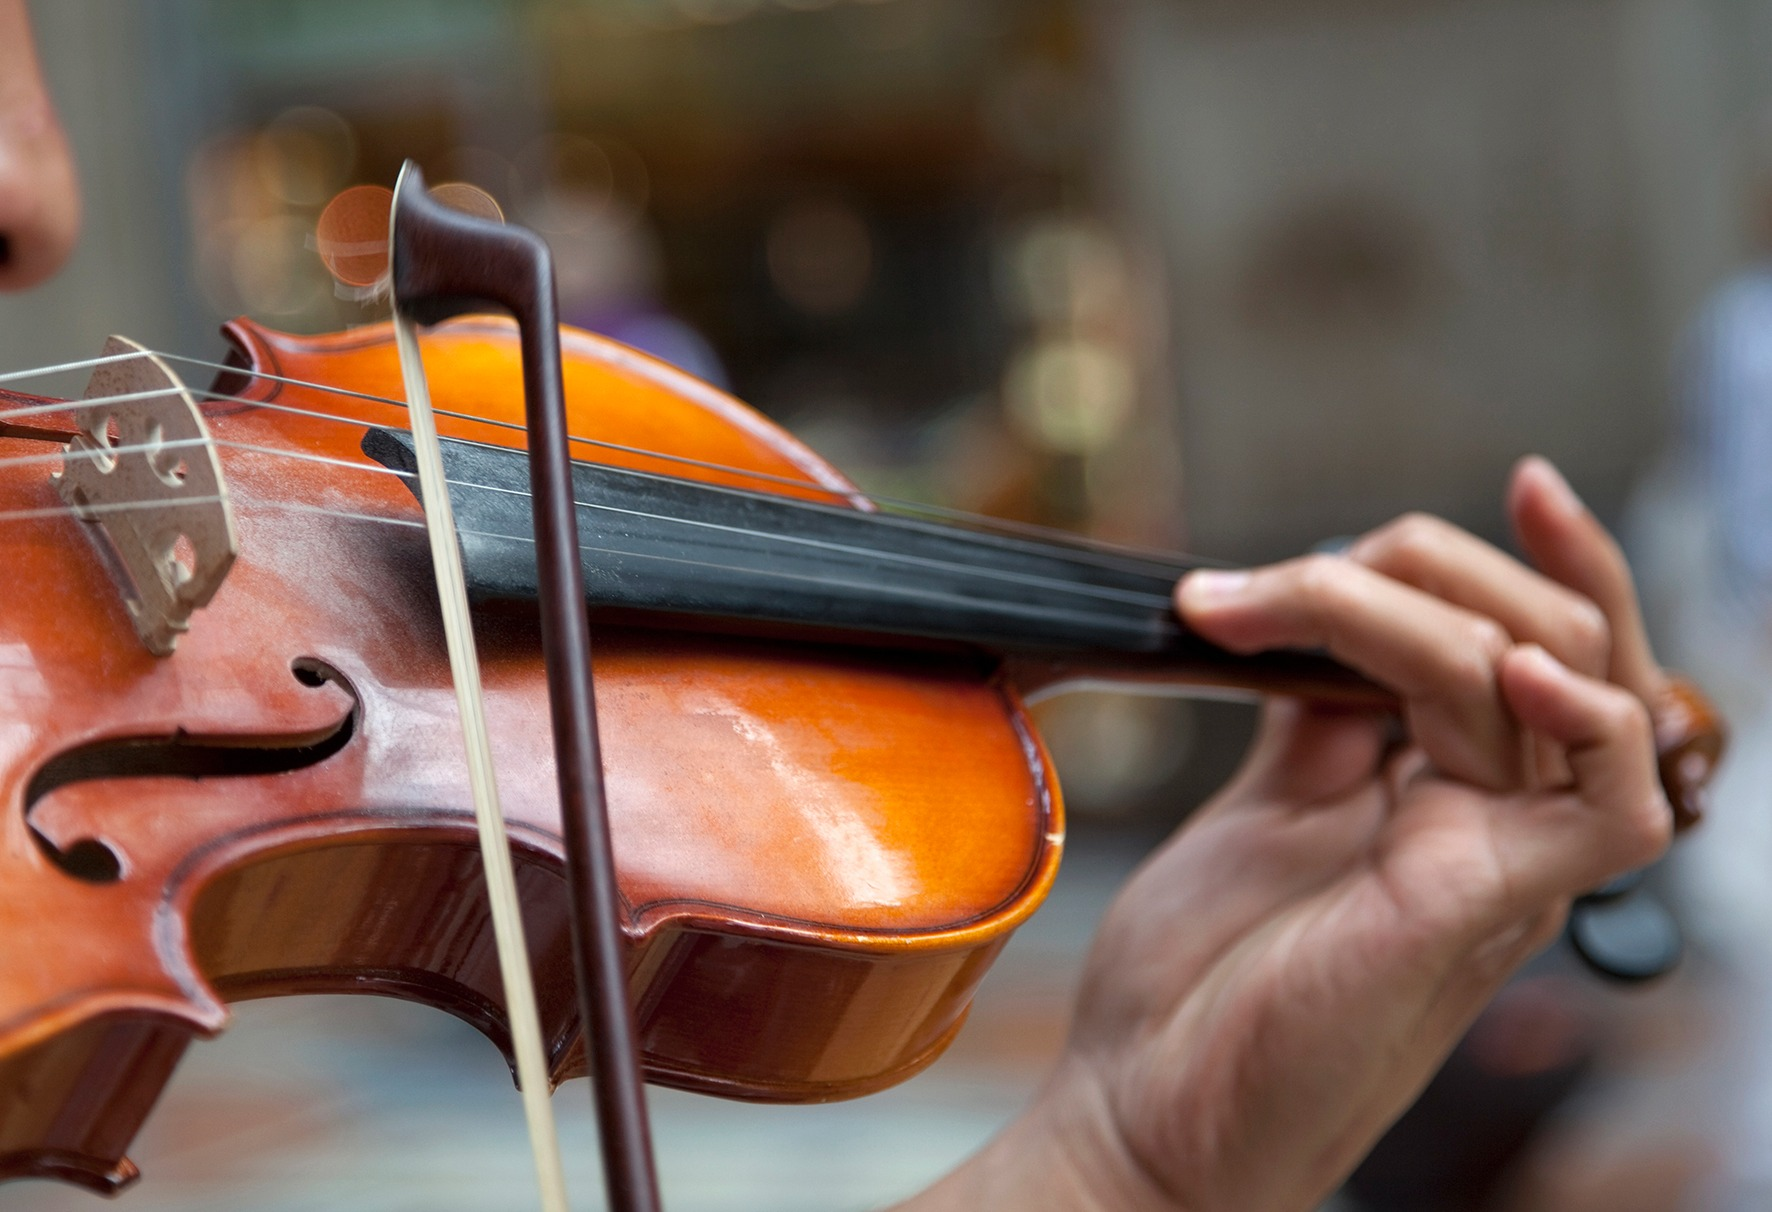Violin: (1, 252, 1746, 1178)
